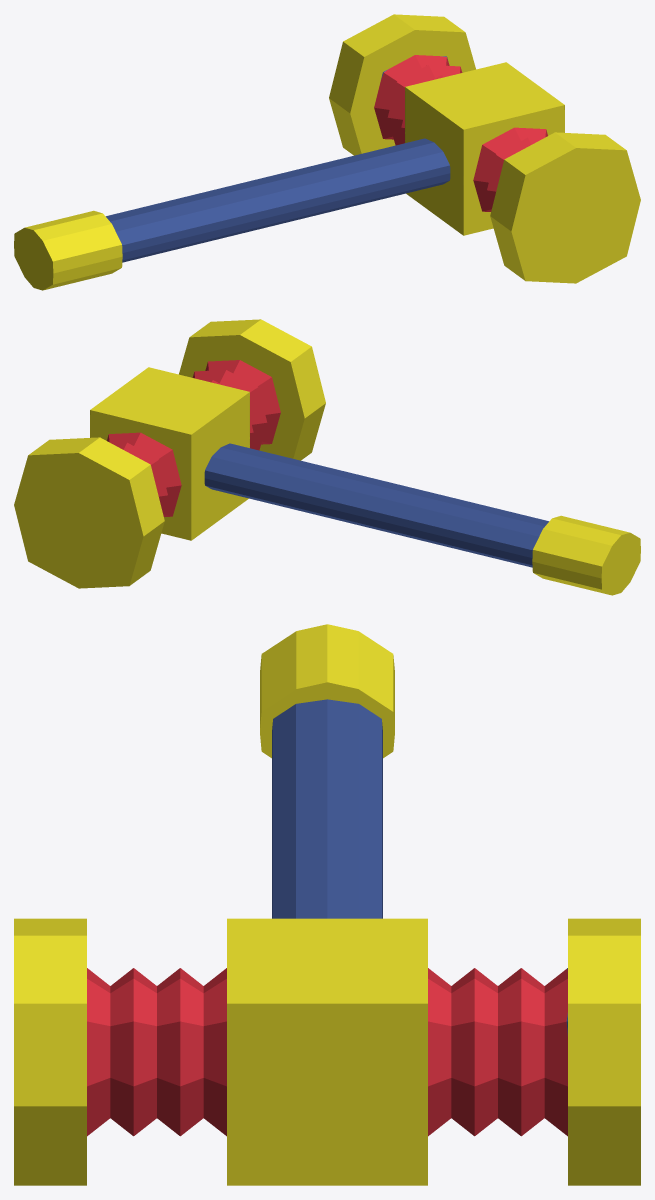
File: ToyHammer.fbx
3 views of the same model, one above another, from view 1: azimuth 30°, elevation 25°; view 2: azimuth 150°, elevation 25°; view 3: azimuth 270°, elevation 25° (orthographic). The views are drawn at different scales.
Visible parts, largest first — view 1: ToyHammer; view 2: ToyHammer; view 3: ToyHammer.
Part boxes in pixels (left/top/right/bottom): ToyHammer: left=14, top=14, right=640, bottom=290; ToyHammer: left=14, top=319, right=640, bottom=595; ToyHammer: left=14, top=624, right=640, bottom=1185.
Size of the model in its own units: 51.62 by 12.96 by 31.61.
Materials: 1 (1 with a texture image).
